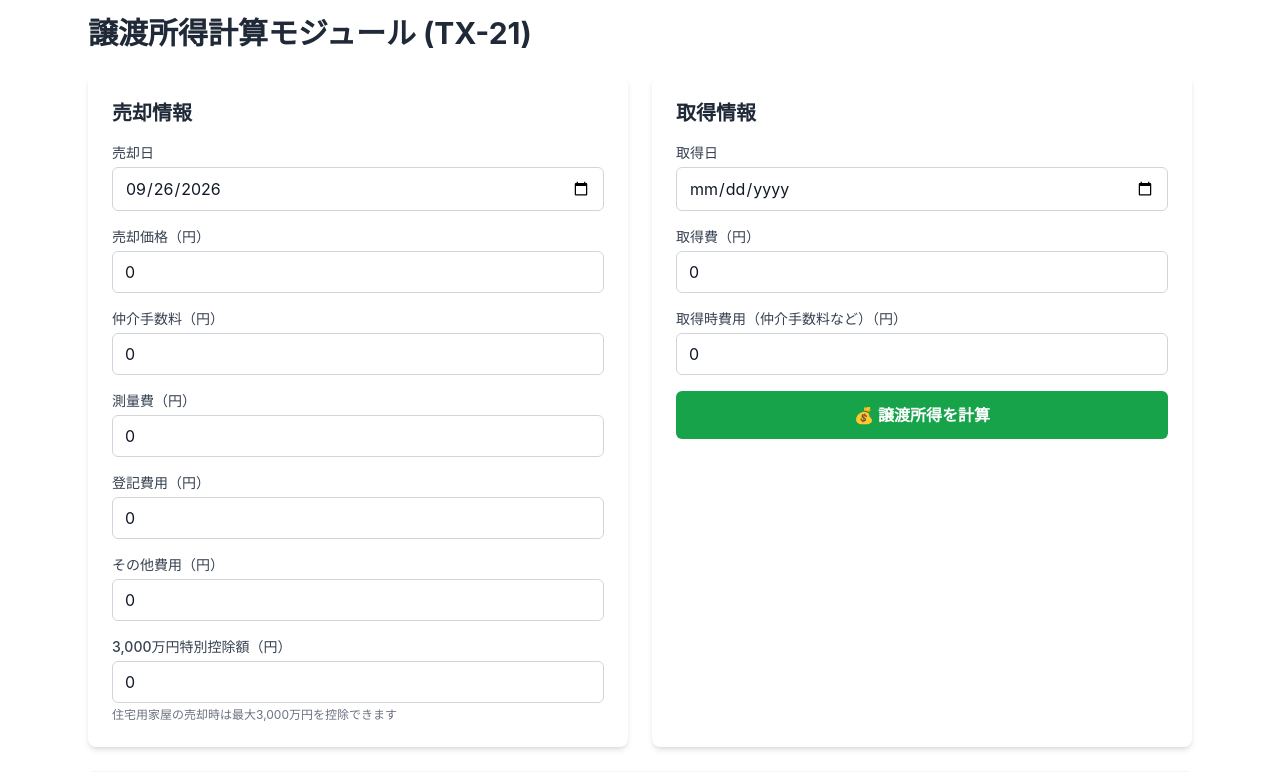
Test: TX-56: 譲渡所得モジュール - 複数物件対応検証 › エラーハンドリング › 計算失敗時にエラー表示される
The width and height of the screenshot is (1280, 772).
Step 1. Click the button "💰 譲渡所得を計算" → {"x": 922, "y": 415}, box top-left (676, 391), bottom-right (1168, 439)
(page scrolled)
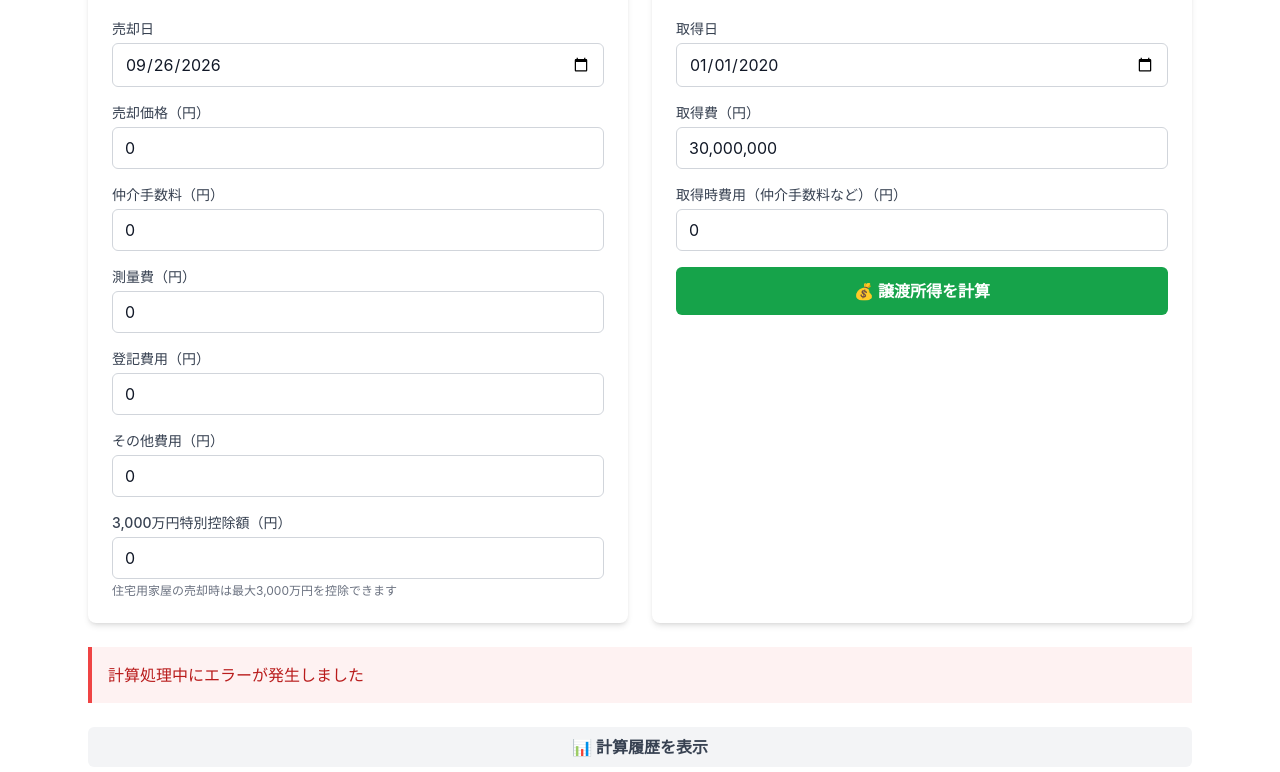
Now the text "計算処理中にエラーが発生しました" is shown, box top-left (108, 665), bottom-right (364, 685)
